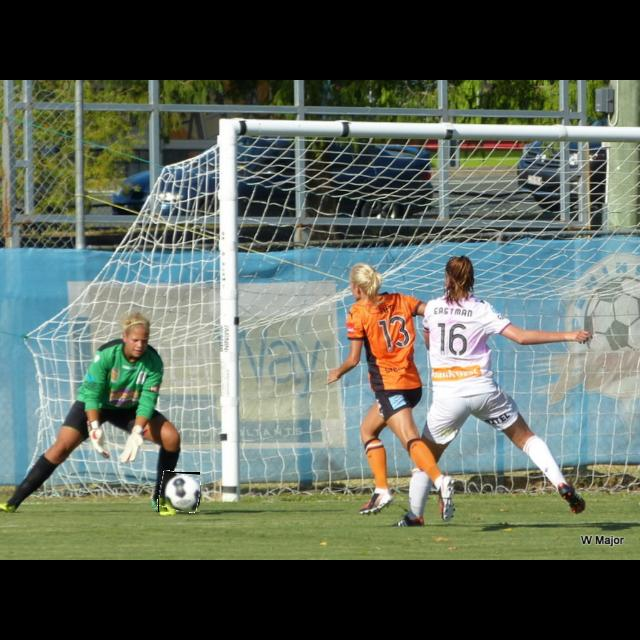Football: (158, 472, 200, 512)
